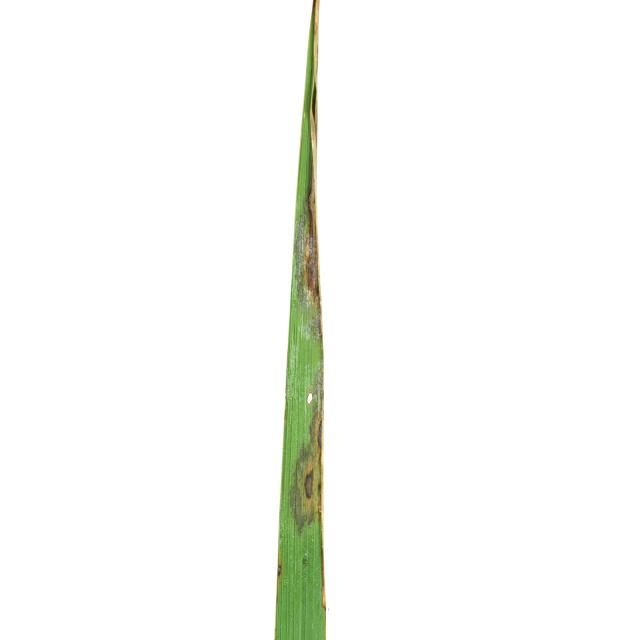Leaf scald: (156, 1, 536, 640)
